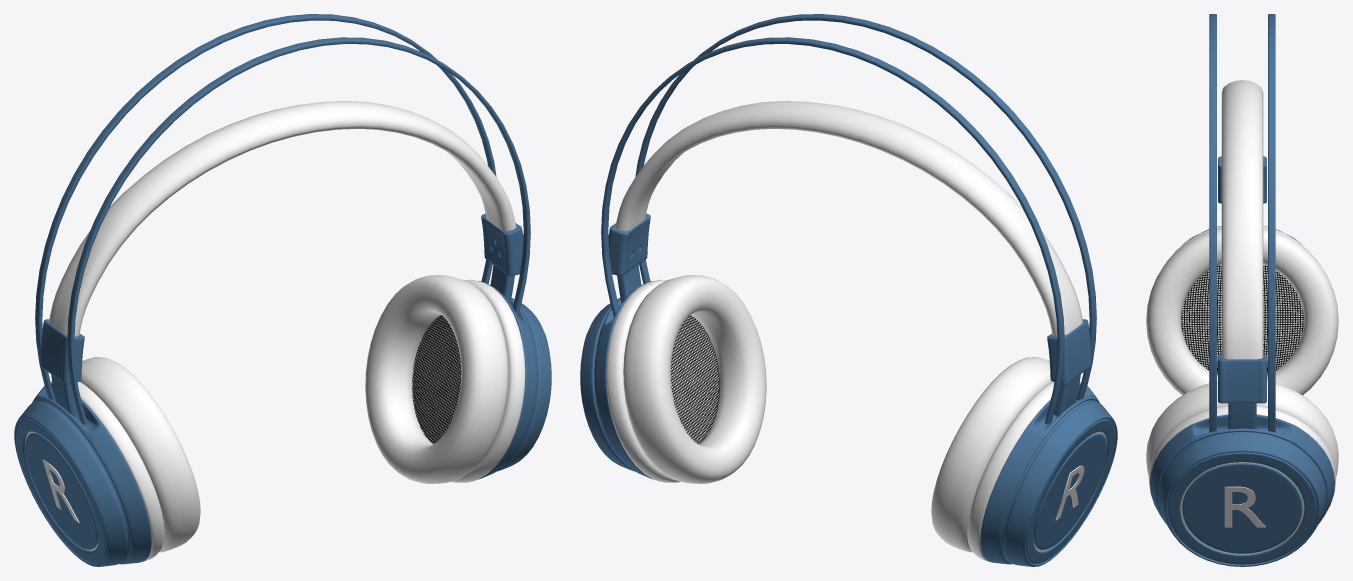
File: headphones.gltf
3 views of the same model, side by side, from view 1: azimuth 30°, elevation 25°; view 2: azimuth 150°, elevation 25°; view 3: azimuth 270°, elevation 25° (orthographic). The views are drawn at different scales.
Visible parts, largest first — view 1: Circle.001, Circle, Circle.004, Circle.003, Circle.002, Plane.001, Circle.007, Circle.006, Circle.005; view 2: Circle.001, Circle, Circle.004, Circle.003, Circle.002, Plane.001, Circle.007, Circle.006, Circle.005; view 3: Circle, Circle.001, Circle.004, Circle.003, Circle.002, Plane.001, Circle.006, Text.002, Circle.005, Circle.007.
Boxes of the visible parts, x1,y1,x2,y2 form: Circle.001: (80,275,508,552); Circle: (14,281,551,566); Circle.004: (49,101,516,336); Circle.003: (35,14,530,424); Circle.002: (50,279,525,561); Plane.001: (412,315,461,443); Circle.007: (40,319,84,384); Circle.006: (481,213,523,275); Circle.005: (51,264,514,416); Circle.001: (623,275,1051,552); Circle: (580,281,1117,566); Circle.004: (615,101,1082,336); Circle.003: (601,14,1096,424); Circle.002: (606,279,1081,561); Plane.001: (670,315,719,443); Circle.007: (1047,319,1091,384); Circle.006: (608,213,650,275); Circle.005: (617,264,1080,416); Circle: (1150,226,1334,566); Circle.001: (1146,228,1338,476); Circle.004: (1221,80,1263,359); Circle.003: (1209,14,1275,432); Circle.002: (1148,226,1336,493); Plane.001: (1181,265,1303,374); Circle.006: (1218,355,1266,403); Text.002: (1224,486,1265,527); Circle.005: (1228,403,1256,429); Circle.007: (1218,156,1266,203).
Size of the model in its own units: 6.55 by 6.21 by 2.45.
